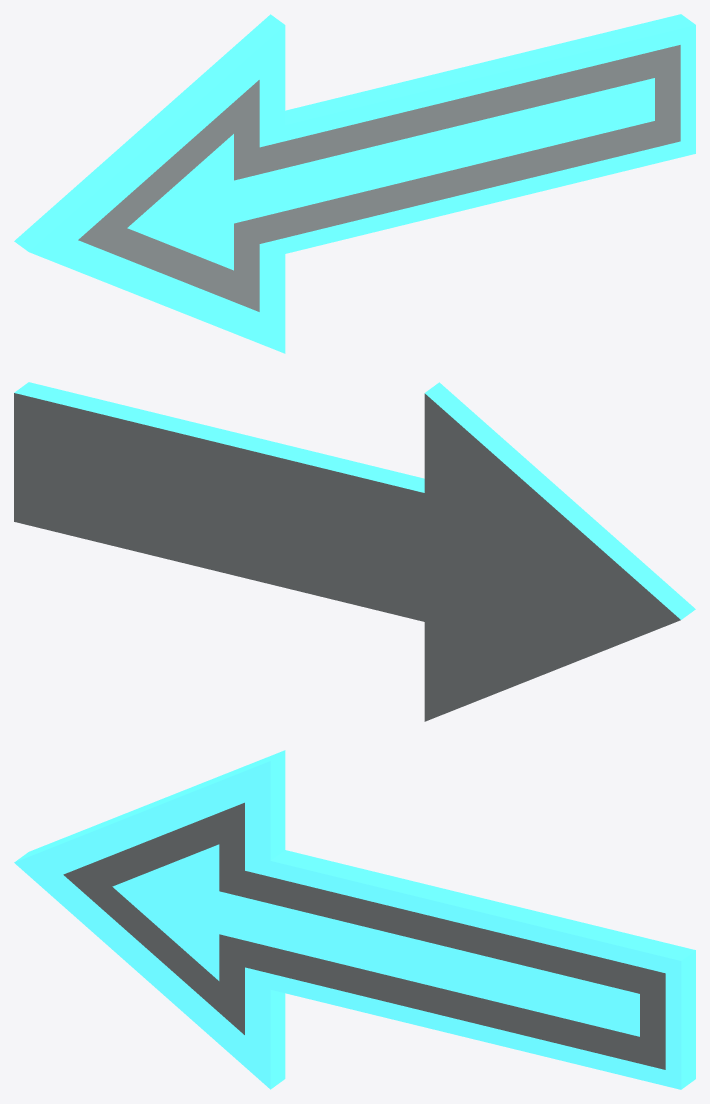
Rendered from SignArrow.fbx.
3 views of the same model, one above another, from view 1: azimuth 30°, elevation 25°; view 2: azimuth 150°, elevation 25°; view 3: azimuth 330°, elevation 25° (orthographic).
Parts seen in each view (by area): view 1: SignArrow; view 2: SignArrow; view 3: SignArrow.
Part boxes in pixels (x1,y1,x2,y2): SignArrow: [14, 14, 695, 353]; SignArrow: [14, 382, 695, 721]; SignArrow: [14, 750, 695, 1089].
Size of the model in its own units: 130 by 61.22 by 5.
